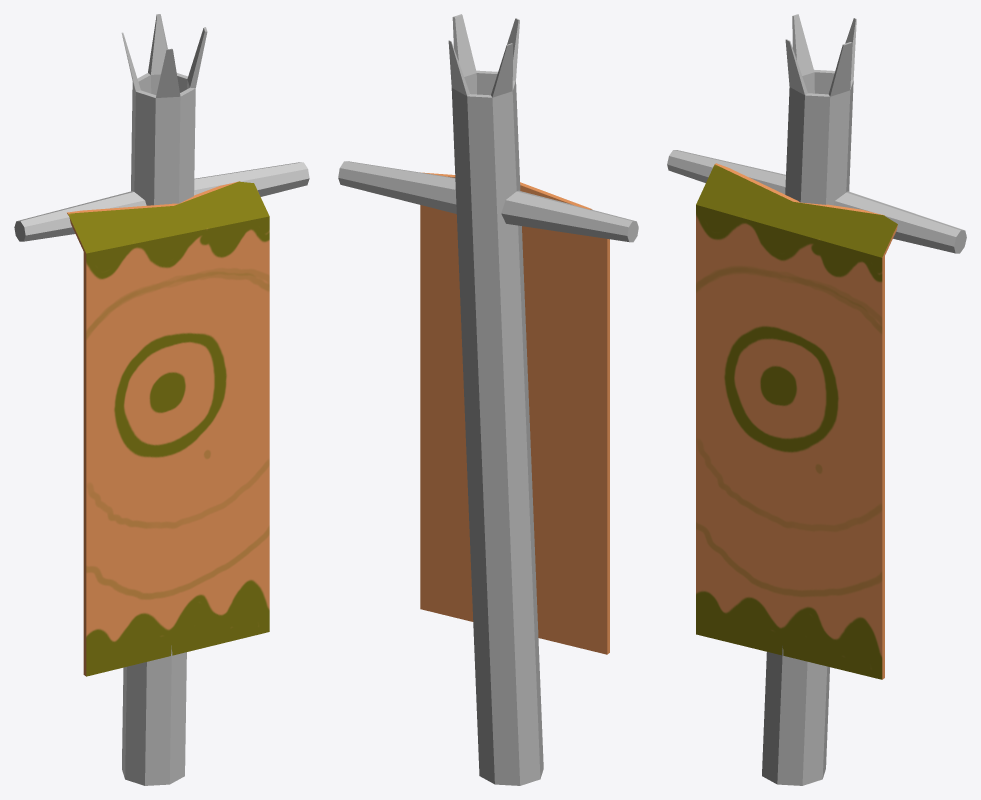
Rendered from Poteau Piquet.fbx.
The picture shows the model from 3 angles, left to right: view 1: azimuth 30°, elevation 25°; view 2: azimuth 150°, elevation 25°; view 3: azimuth 330°, elevation 25°; orthographic projection.
Visible parts, largest first — view 1: Blason, Poteau, PoteauSommet; view 2: Poteau, Blason, PoteauSommet; view 3: Blason, Poteau, PoteauSommet.
Boxes of the visible parts, x1,y1,x2,y2 form: Blason: [67, 181, 269, 676]; Poteau: [14, 73, 309, 785]; PoteauSommet: [121, 14, 207, 97]; Poteau: [338, 70, 638, 785]; Blason: [420, 172, 609, 654]; PoteauSommet: [448, 14, 519, 97]; Blason: [696, 163, 897, 679]; Poteau: [667, 69, 966, 785]; PoteauSommet: [785, 14, 856, 96].
Bounding box in the file's own units: 351 × 863 × 95.11.
